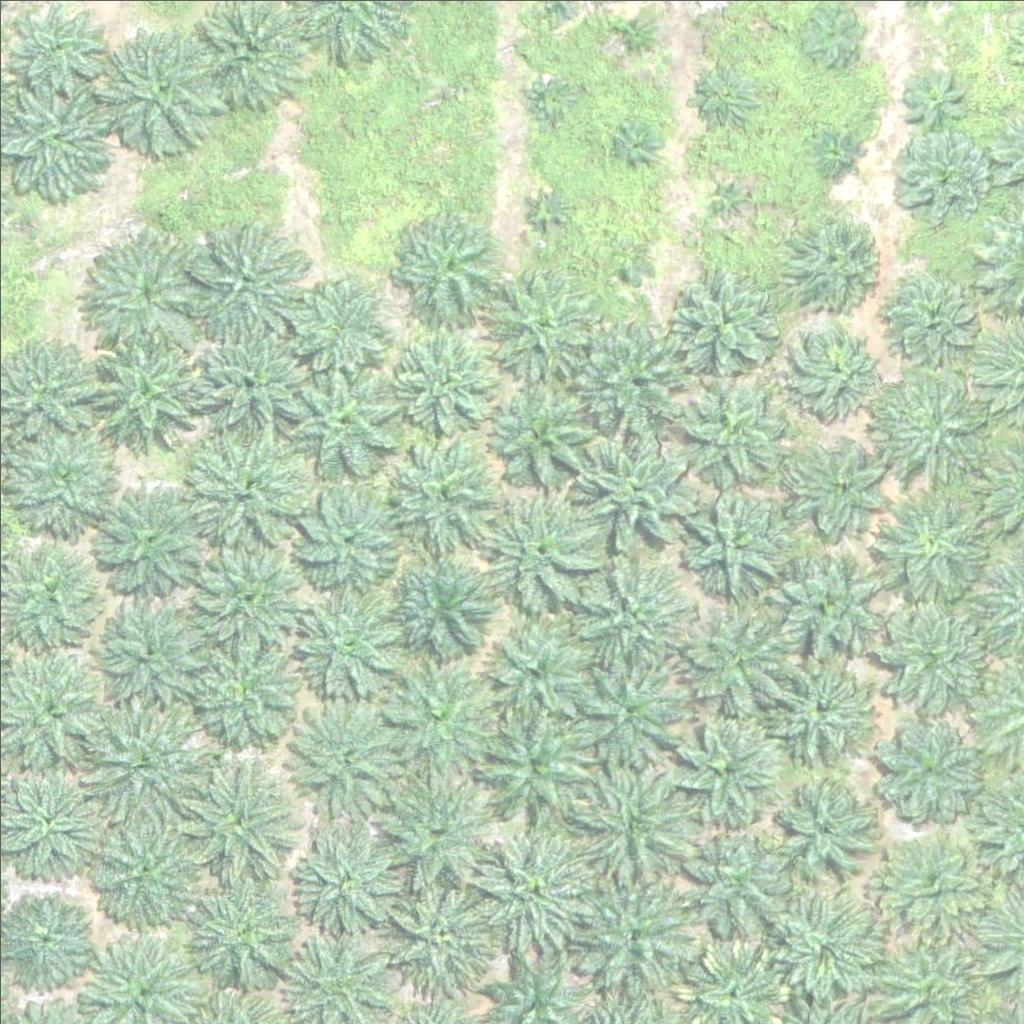Kelapa_Sawit: (82, 804, 207, 930), (176, 863, 301, 989), (176, 751, 301, 877), (381, 872, 506, 998), (373, 761, 498, 887), (477, 826, 602, 952), (571, 871, 696, 997), (581, 756, 706, 882), (668, 363, 793, 489), (565, 648, 690, 774), (567, 554, 692, 680), (572, 419, 697, 545), (572, 304, 697, 430), (475, 709, 600, 835), (471, 610, 596, 736), (475, 489, 600, 615), (485, 376, 610, 502), (383, 654, 508, 780), (289, 572, 414, 698), (286, 695, 411, 821), (284, 352, 409, 478), (179, 532, 304, 658), (180, 424, 305, 550), (184, 216, 309, 342), (85, 331, 210, 457), (81, 227, 206, 353), (100, 20, 225, 146), (866, 363, 991, 488), (179, 627, 304, 752), (4, 414, 129, 539), (395, 327, 508, 441), (383, 434, 496, 548), (282, 265, 395, 379), (880, 828, 993, 941), (870, 717, 983, 830), (762, 647, 875, 760), (875, 602, 988, 715), (875, 489, 988, 602), (777, 551, 890, 664), (663, 261, 776, 374), (391, 209, 504, 322), (380, 547, 493, 660), (96, 481, 209, 594), (95, 595, 208, 708), (82, 710, 195, 823), (684, 599, 796, 713), (295, 824, 407, 937), (677, 822, 789, 935), (770, 769, 882, 882), (770, 893, 882, 1006), (669, 713, 781, 826), (682, 487, 794, 600), (485, 261, 597, 374), (291, 477, 403, 590), (199, 321, 311, 434), (881, 263, 981, 364), (791, 435, 891, 536), (789, 318, 889, 419), (791, 205, 891, 306), (886, 128, 986, 229), (694, 62, 756, 125), (903, 71, 965, 134), (609, 13, 659, 64), (611, 123, 661, 173), (522, 186, 572, 236), (526, 75, 576, 125), (706, 171, 756, 221), (603, 240, 653, 290), (816, 130, 854, 167)
